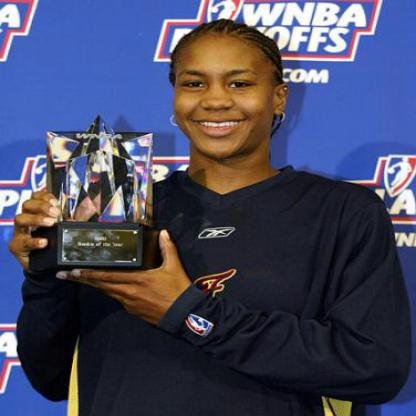face: (171, 22, 279, 159)
